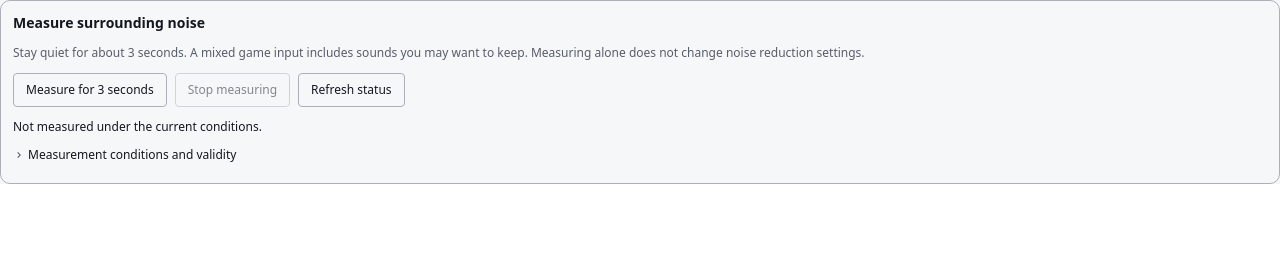
Scenario: 測定完了だけでは採用せず、無言確認と明示採用を必要とする (en)
The image size is (1280, 273).
Click the button "Measure for 3 seconds".
click(90, 90)  # box x1=13 y1=73 x2=167 y2=107
Wait 500 ms
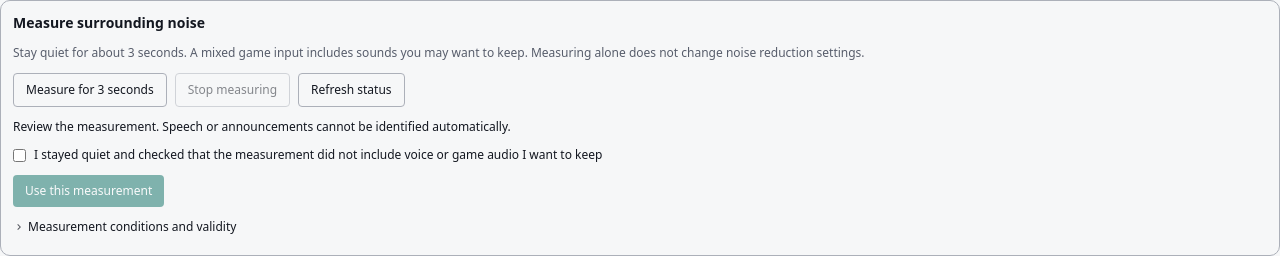
Expected: the button "Use this measurement" is disabled, x1=13 y1=175 x2=164 y2=207
Click the checkbox named "I stayed quiet and checked that the measurement did not include voice or game audio I want to keep".
click(20, 155)  # box x1=13 y1=148 x2=26 y2=162
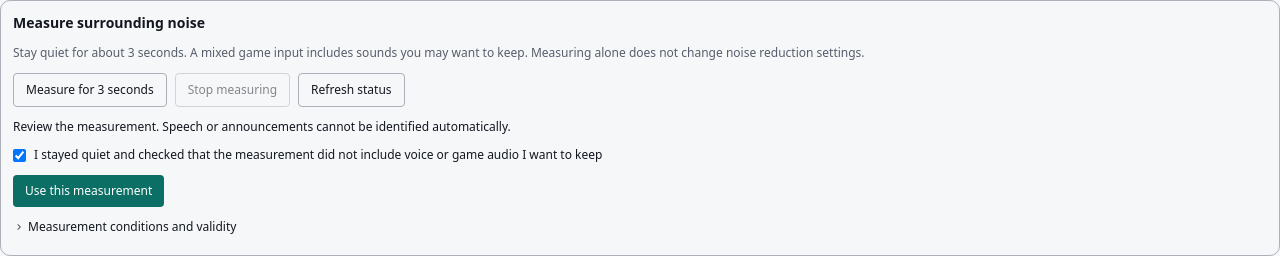
Click the button "Use this measurement".
click(89, 191)  # box x1=13 y1=175 x2=164 y2=207
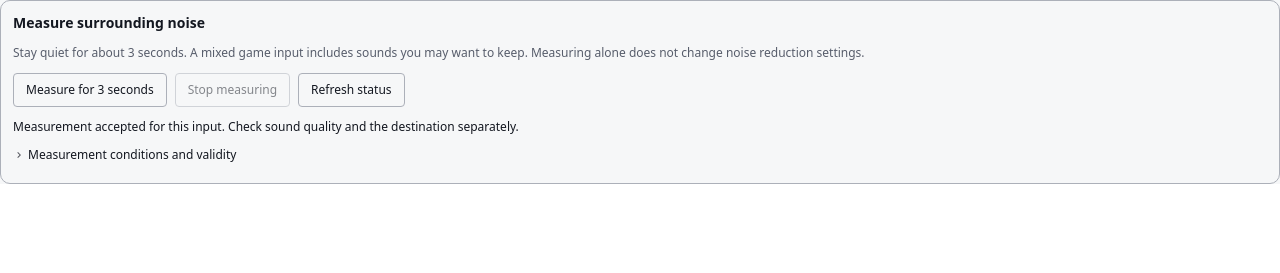
Expected: the text "Measurement accepted for this input. Check sound quality and the destination separately." is shown, x1=13 y1=118 x2=519 y2=135
